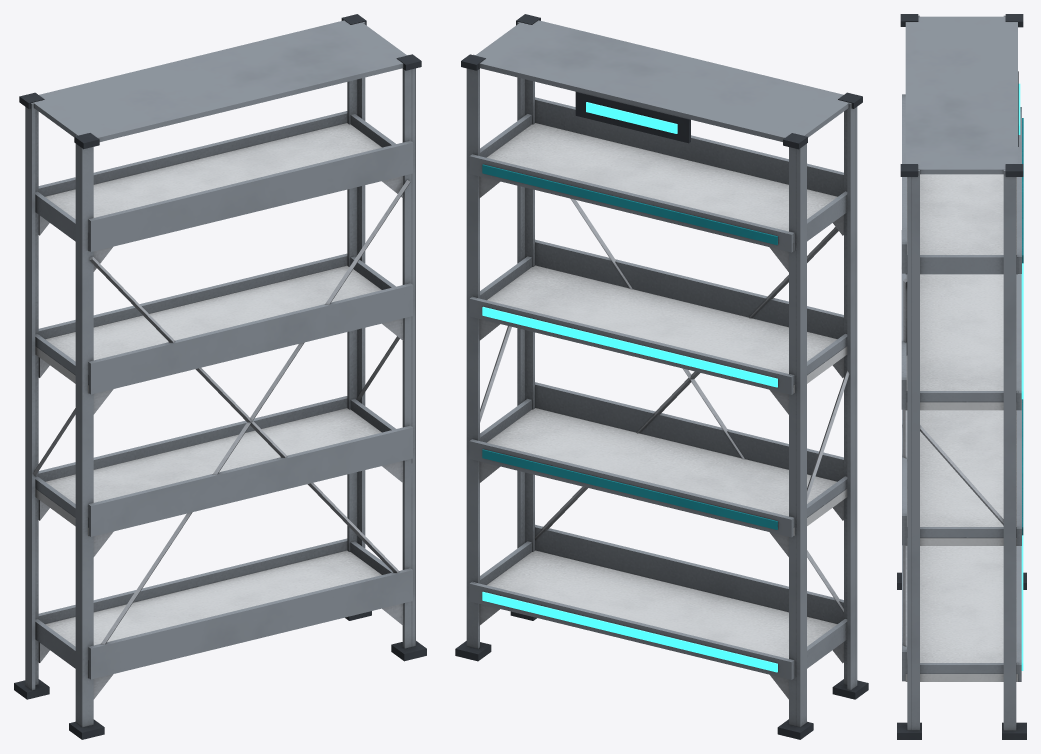
Rendered from estanteria_tienda.fbx.
The picture shows the model from 3 angles, left to right: view 1: azimuth 30°, elevation 25°; view 2: azimuth 150°, elevation 25°; view 3: azimuth 270°, elevation 25°; orthographic projection. The views are drawn at different scales.
Parts seen in each view (by area): view 1: estanteria_tienda; view 2: estanteria_tienda, estanteria_tienda_neon; view 3: estanteria_tienda, estanteria_tienda_neon.
Boxes of the visible parts, <box> form: estanteria_tienda: <box>14,14,426,739</box>; estanteria_tienda: <box>455,14,868,739</box>; estanteria_tienda_neon: <box>482,102,777,672</box>; estanteria_tienda: <box>897,14,1026,739</box>; estanteria_tienda_neon: <box>1018,83,1023,670</box>.
Bounding box in the file's own units: 3.04 × 5.01 × 1.04.
2 materials, 2 textured.
